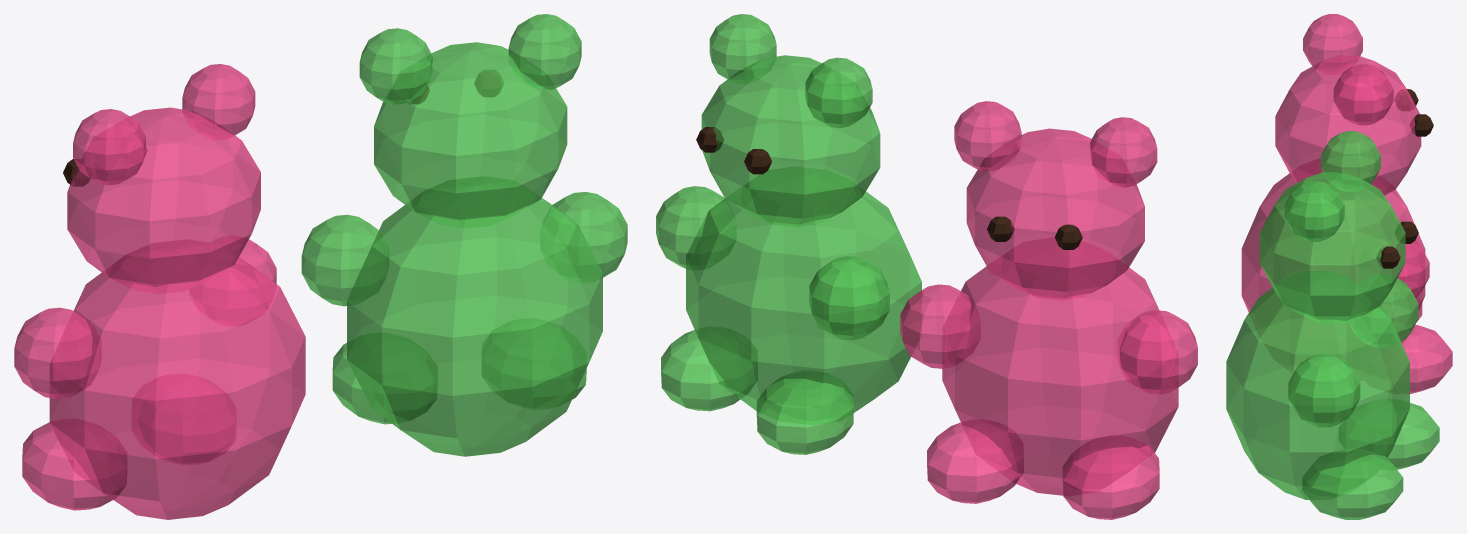
File: GummyBears.fbx
3 views of the same model, side by side, from view 1: azimuth 30°, elevation 25°; view 2: azimuth 150°, elevation 25°; view 3: azimuth 270°, elevation 25° (orthographic). The views are drawn at different scales.
Parts seen in each view (by area): view 1: Top_5AD25A_Glass, Top_FF5096_Glass, Top_3C2314; view 2: Top_FF5096_Glass, Top_5AD25A_Glass, Top_3C2314; view 3: Top_5AD25A_Glass, Top_FF5096_Glass, Top_3C2314.
Boxes of the visible parts, left/top/right/bottom form: Top_5AD25A_Glass: left=301, top=14, right=627, bottom=456; Top_FF5096_Glass: left=14, top=64, right=305, bottom=519; Top_3C2314: left=63, top=72, right=501, bottom=186; Top_FF5096_Glass: left=900, top=101, right=1197, bottom=519; Top_5AD25A_Glass: left=656, top=14, right=921, bottom=454; Top_3C2314: left=696, top=127, right=1082, bottom=249; Top_5AD25A_Glass: left=1226, top=131, right=1439, bottom=519; Top_FF5096_Glass: left=1241, top=14, right=1452, bottom=393; Top_3C2314: left=1376, top=89, right=1433, bottom=268.
Size of the model in its own units: 2 by 1.35 by 0.83.
